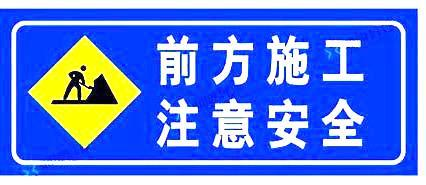sign: (8, 15, 411, 170)
